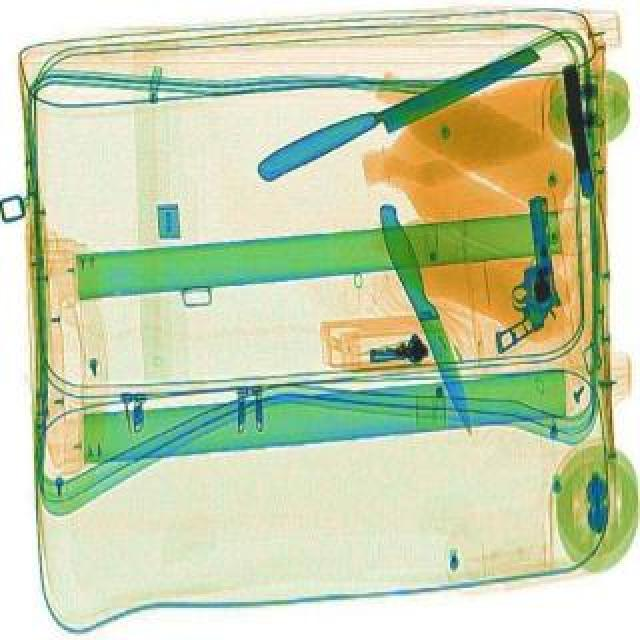gun: (482, 198, 566, 358), (560, 68, 600, 206)
knife: (252, 38, 544, 192), (372, 204, 484, 440)
